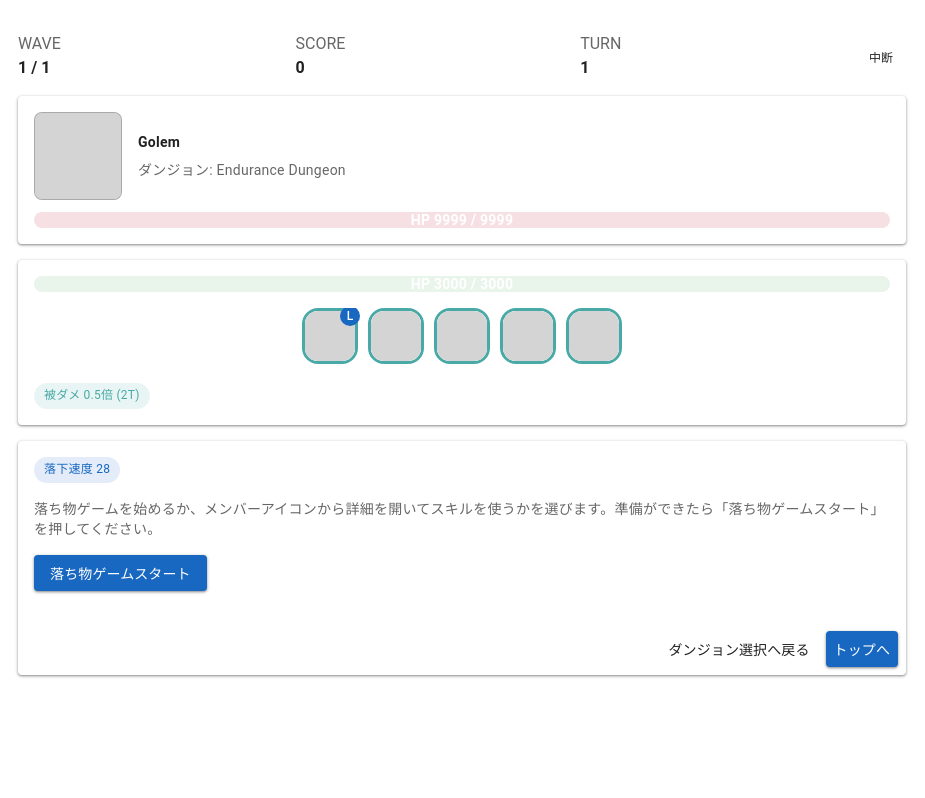
BattleView › 通常攻撃ではコンボに応じた与ダメージを表示し、失敗時にその値でダメージ計算する
Click the button "落ち物ゲームスタート".
click(120, 573)  # box [34, 555, 207, 591]
(page scrolled)
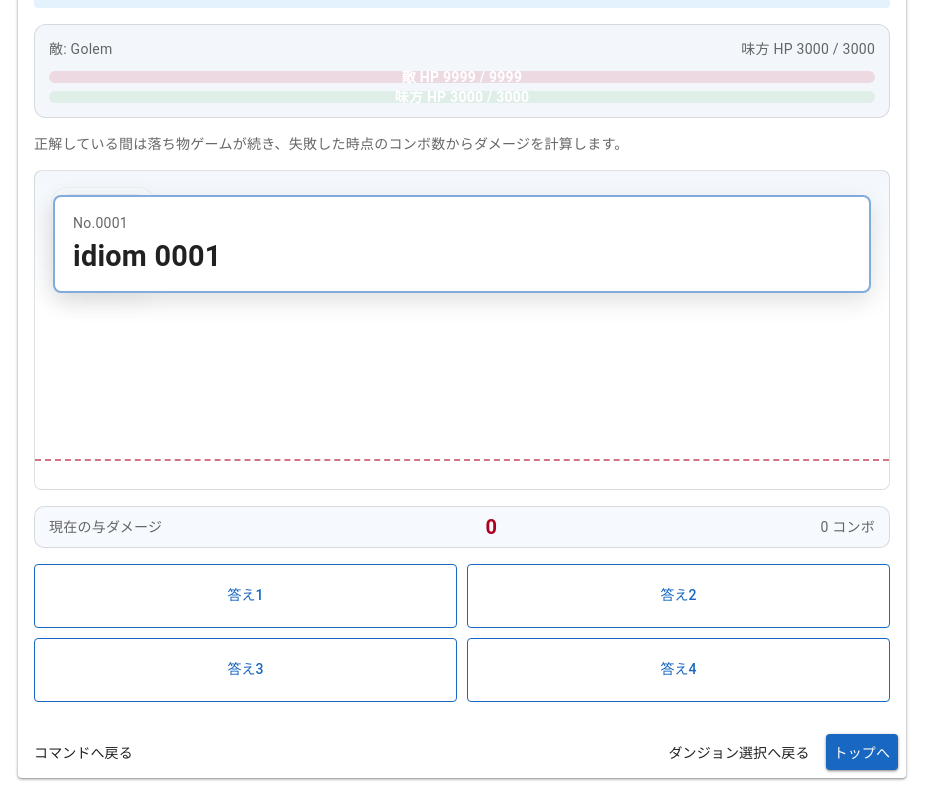
Click the button "答え1".
click(246, 596)  # box [34, 564, 457, 628]
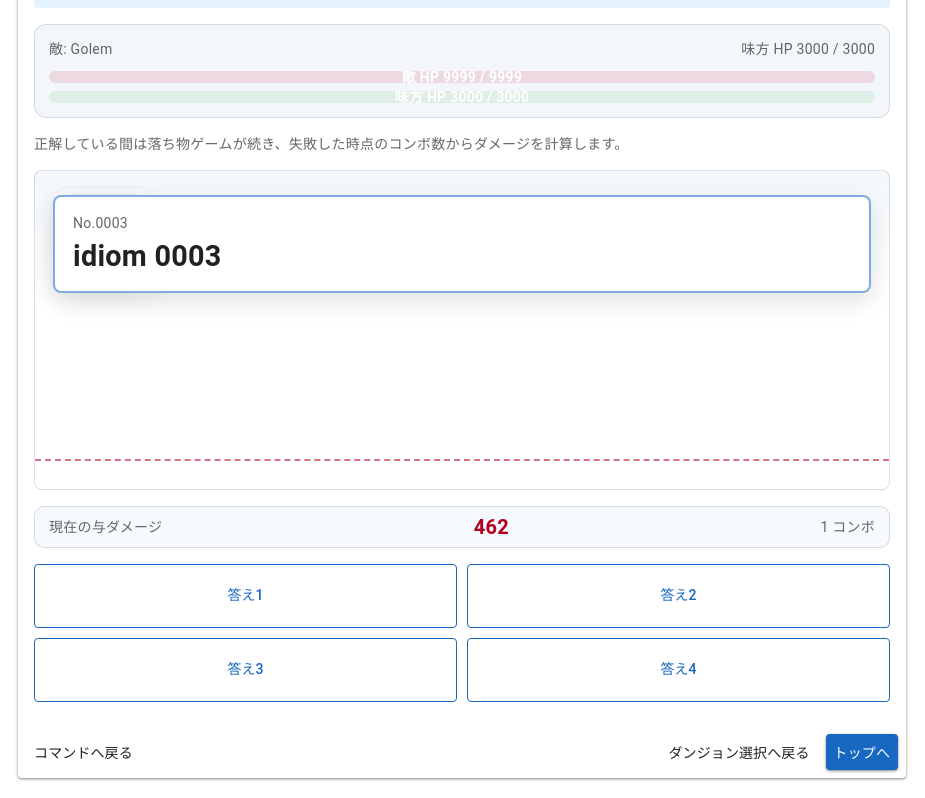
Expected: the text "落ち物ゲーム" is shown, [34, 136, 629, 152]
Result: the text "現在の与ダメージ" is shown at [49, 517, 162, 537]
Click the button "答え1".
click(246, 596)  # box [34, 564, 457, 628]
(page scrolled)
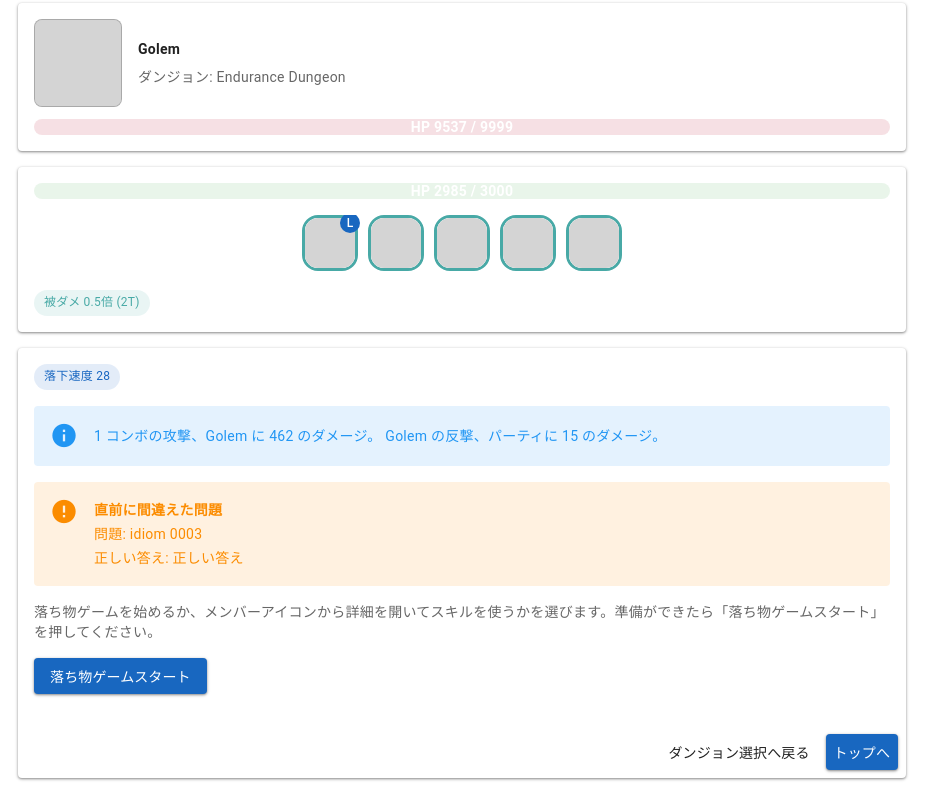
Result: the text "1 コンボの攻撃、Golem に 462 のダメージ。 Golem の反撃、パーティに 15 のダメージ。" is shown at [94, 428, 666, 444]
Result: the text "直前に間違えた問題" is shown at [94, 502, 222, 518]
Result: the text "問題: idiom 0003" is shown at [94, 526, 202, 542]
